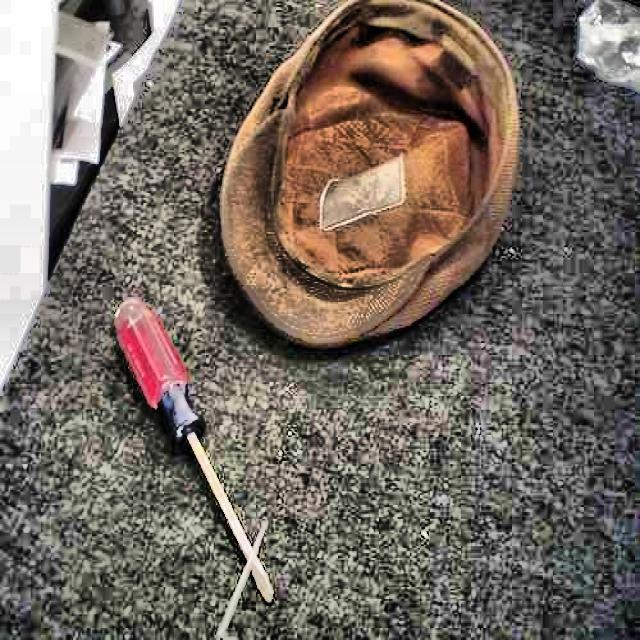screwdriver: (114, 296, 274, 602)
